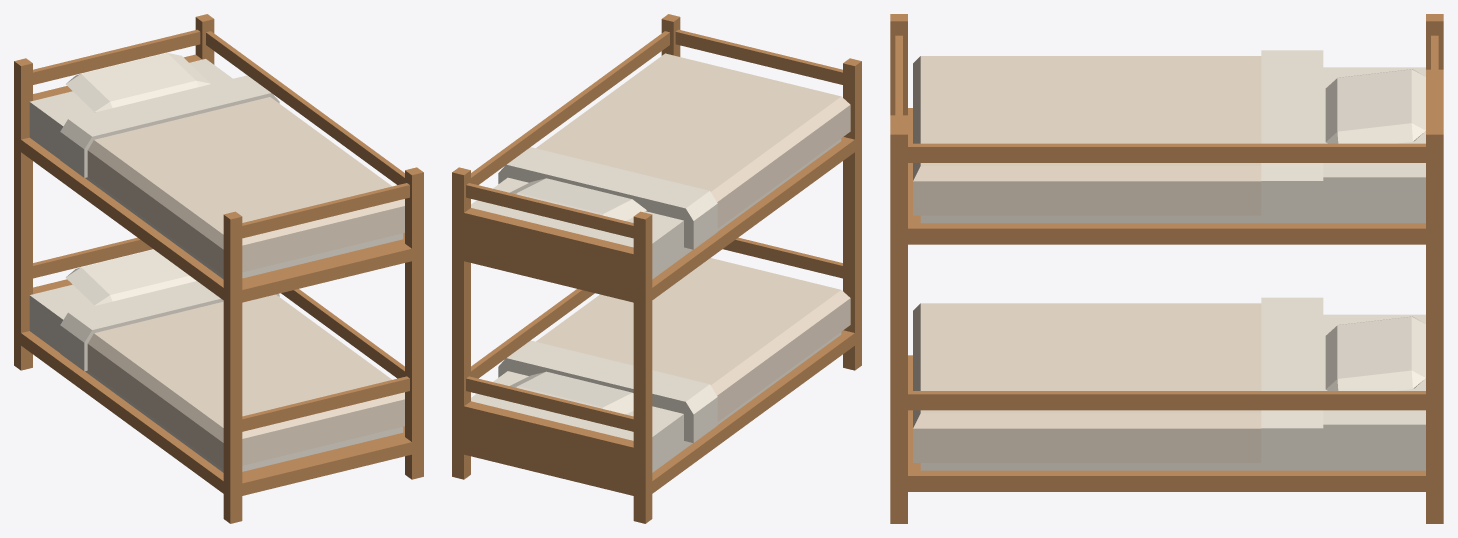
File: kitBedBunk.glb
3 renders of one model, left to right at view 1: azimuth 30°, elevation 25°; view 2: azimuth 150°, elevation 25°; view 3: azimuth 270°, elevation 25°, orthographic. The views are drawn at different scales.
Parts seen in each view (by area): view 1: kitBedBunk_fabric, kitBedBunk_wood, kitBedBunk_fabricLight; view 2: kitBedBunk_wood, kitBedBunk_fabric, kitBedBunk_fabricLight; view 3: kitBedBunk_fabric, kitBedBunk_wood, kitBedBunk_fabricLight.
Part boxes in pixels (left/top/right/bottom): kitBedBunk_fabric: left=87, top=97, right=404, bottom=469; kitBedBunk_wood: left=14, top=14, right=423, bottom=523; kitBedBunk_fabricLight: left=29, top=53, right=403, bottom=472; kitBedBunk_wood: left=452, top=14, right=861, bottom=523; kitBedBunk_fabric: left=536, top=53, right=850, bottom=421; kitBedBunk_fabricLight: left=471, top=138, right=841, bottom=472; kitBedBunk_fabric: left=913, top=56, right=1261, bottom=462; kitBedBunk_wood: left=890, top=14, right=1443, bottom=523; kitBedBunk_fabricLight: left=920, top=50, right=1425, bottom=470.
Size of the model in its own units: 0.96 by 1.43 by 1.84.
